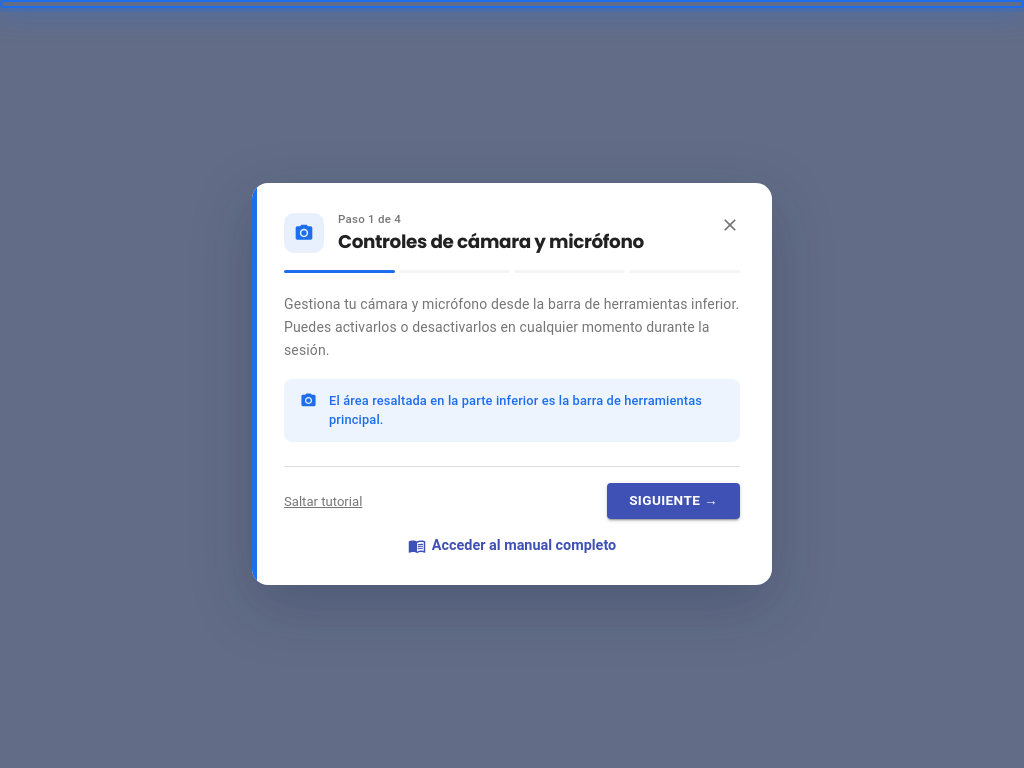
it: OnboardingTutorial component › spotlight highlight › draws no spotlight on the last step, which has no anchor
Click the button with test id "onboarding-next" at (674, 501), box [607,483,740,519]
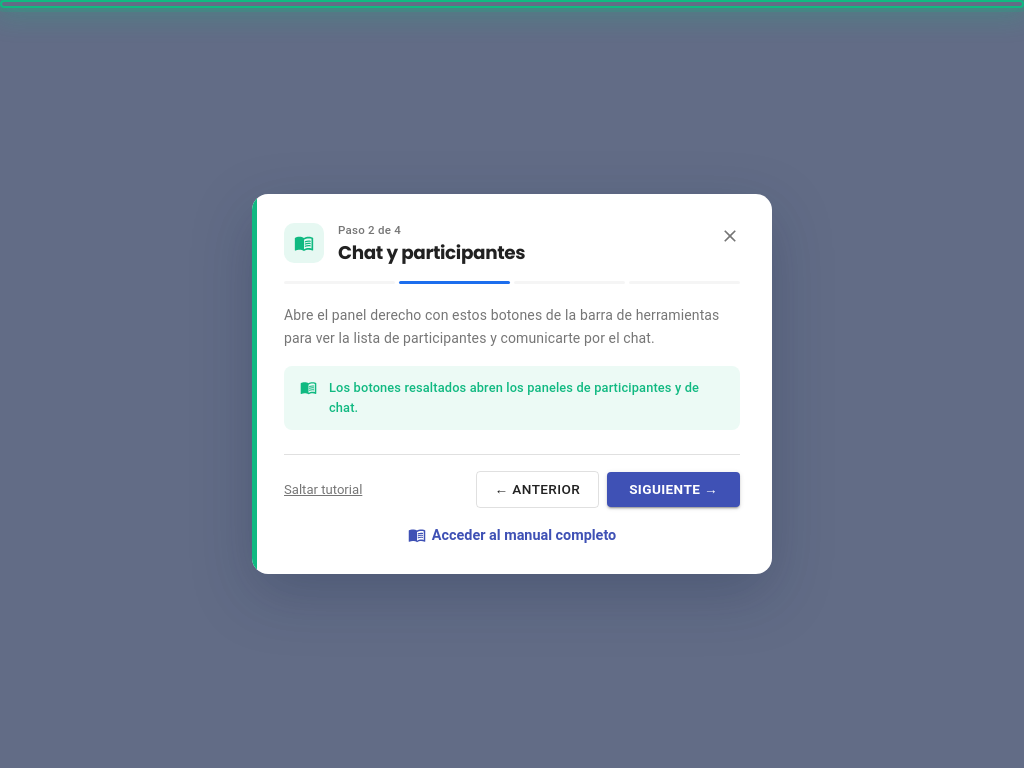
Click the button with test id "onboarding-next" at (674, 490), box [607,472,740,507]
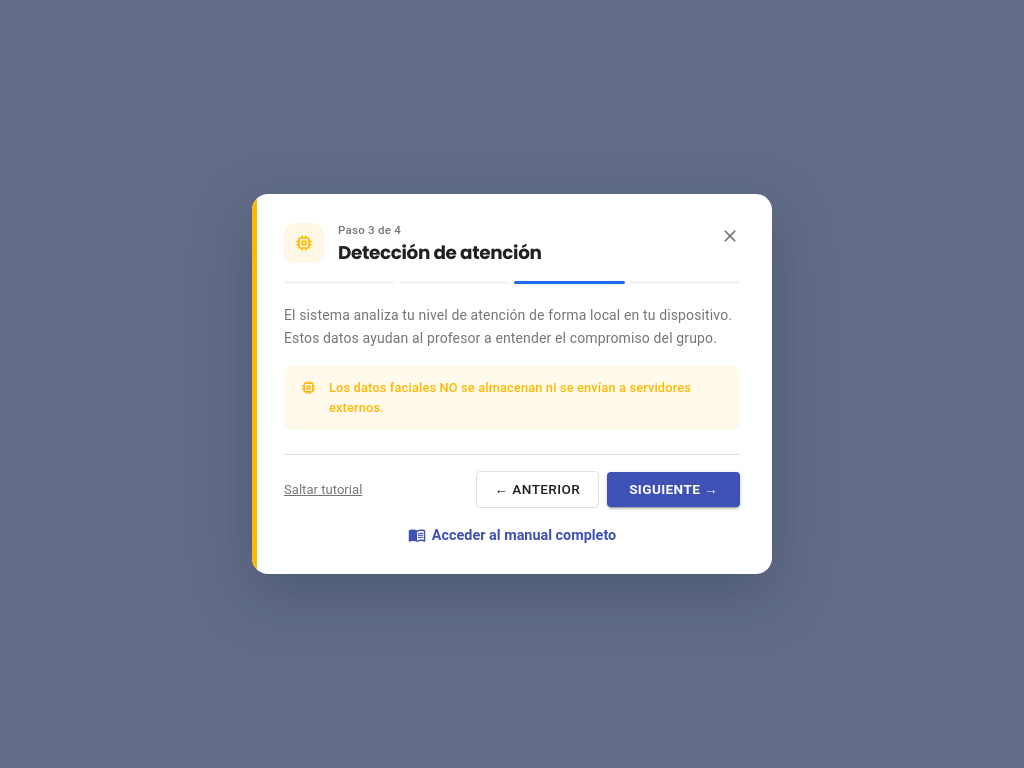
Click the button with test id "onboarding-next" at (674, 490), box [607,472,740,507]
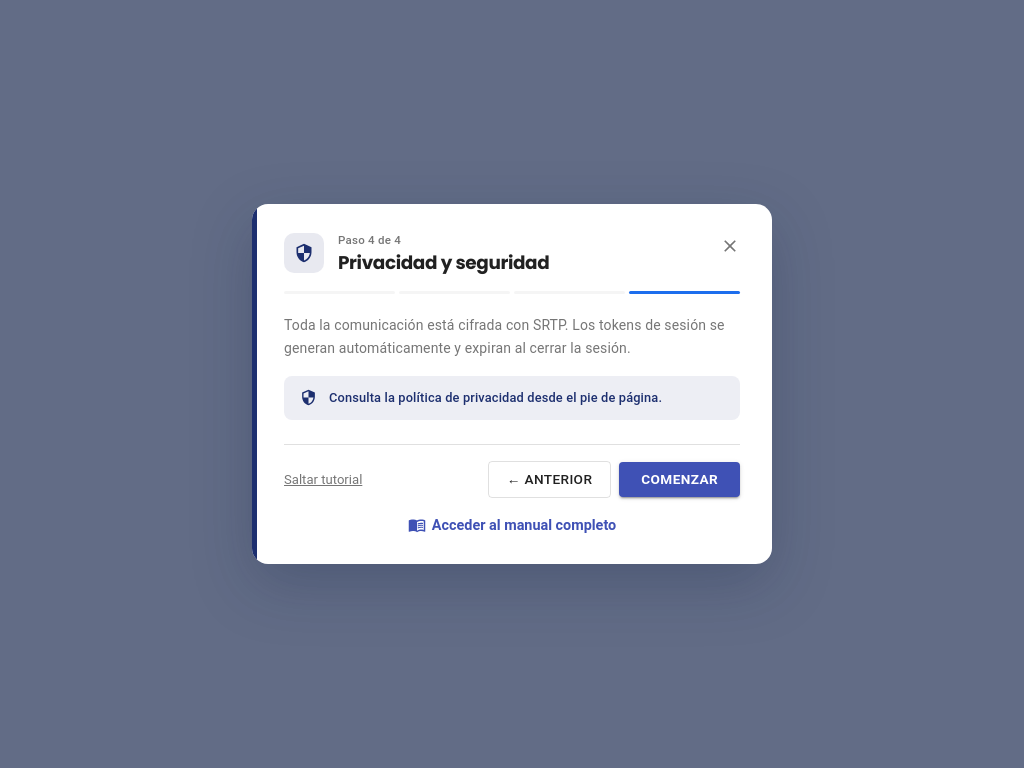
Check: the text with test id "onboarding-step-label" reads "Paso 4 de 4", box [338,232,401,246]
